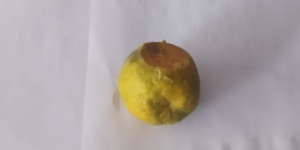BAD: (120, 41, 198, 123)
